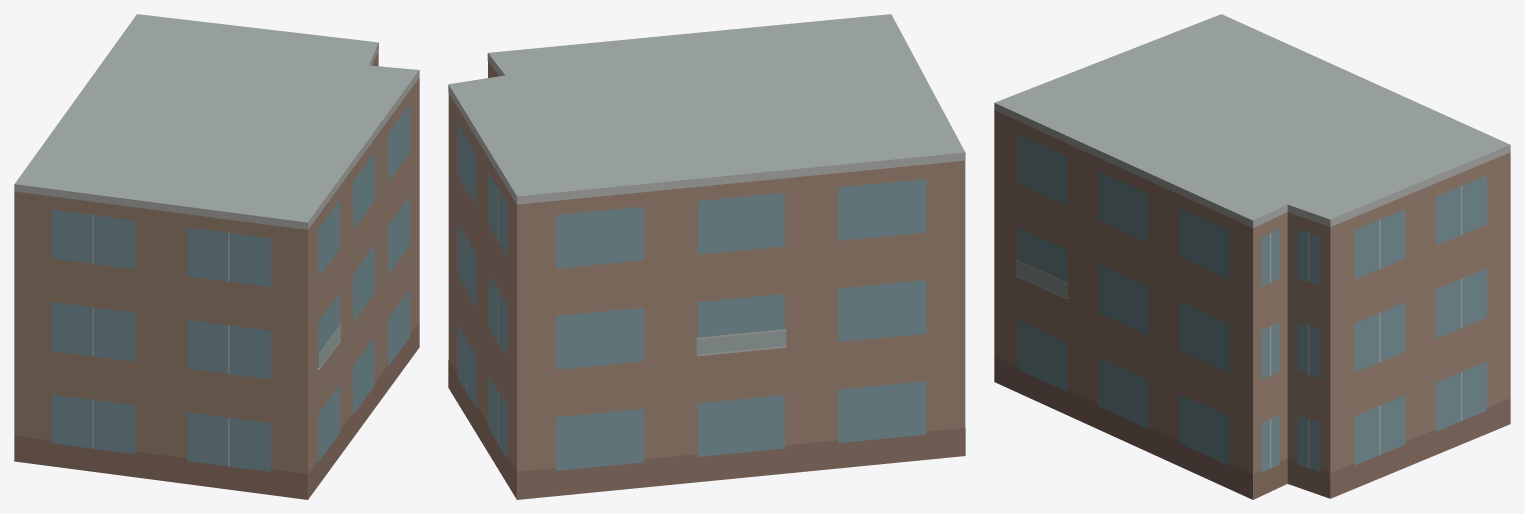
Rendered from survey-upis-32814414.glb.
The picture shows the model from 3 angles, left to right: view 1: azimuth 30°, elevation 25°; view 2: azimuth 150°, elevation 25°; view 3: azimuth 270°, elevation 25°; orthographic projection. The views are drawn at different scales.
Parts seen in each view (by area): view 1: survey-upis-32814414.tmp; view 2: survey-upis-32814414.tmp; view 3: survey-upis-32814414.tmp.
Boxes of the visible parts, x1=… form: survey-upis-32814414.tmp: x1=14, y1=14, x2=419, y2=499; survey-upis-32814414.tmp: x1=448, y1=14, x2=965, y2=499; survey-upis-32814414.tmp: x1=994, y1=14, x2=1510, y2=499.
Bounding box in the file's own units: 14.54 × 9.15 × 15.35.
